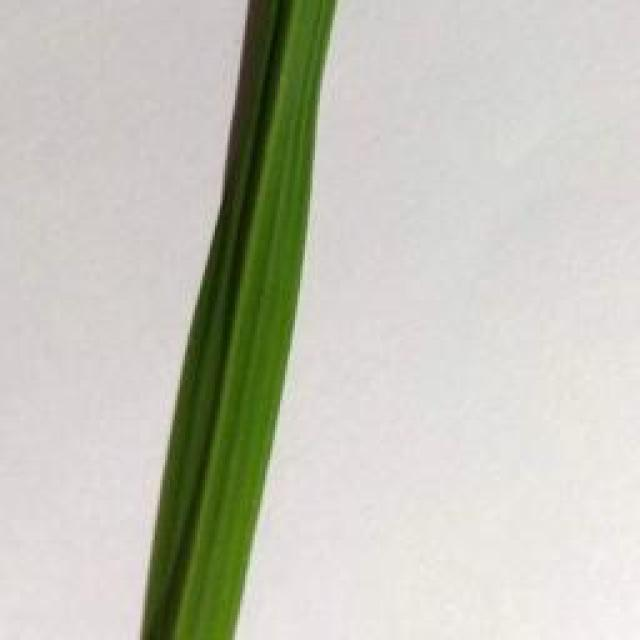Healthy-Plant: (141, 0, 337, 518)
